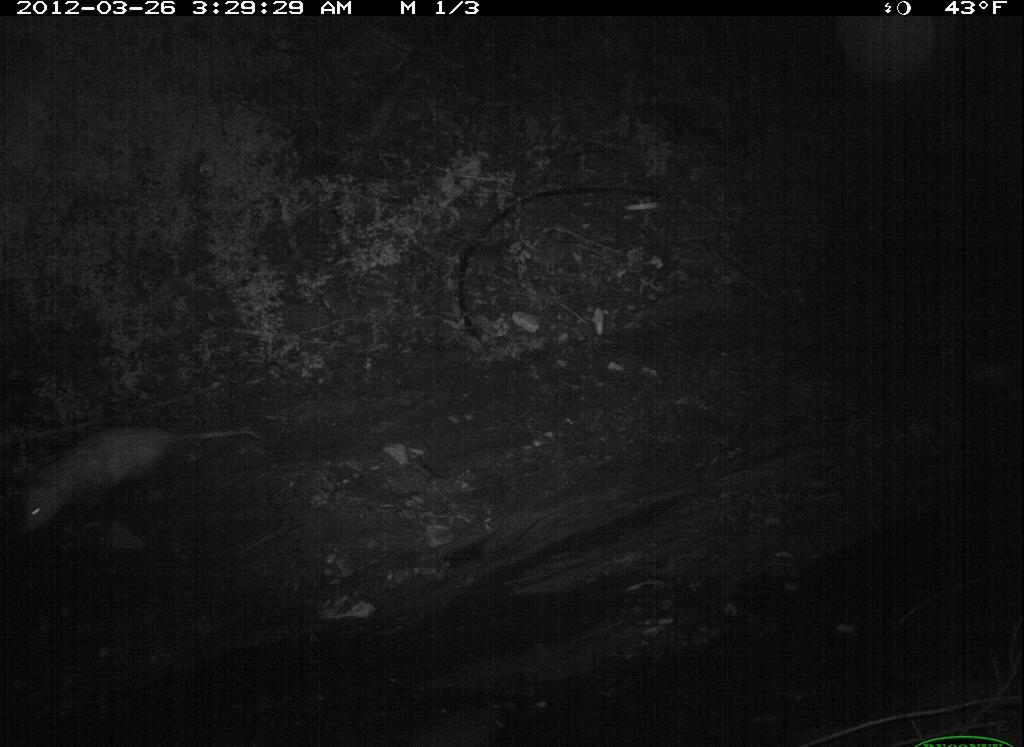opossum: (4, 396, 265, 536)
